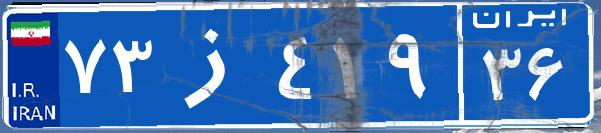1: (330, 28, 385, 110)
3: (475, 38, 525, 113), (110, 28, 158, 105)
4: (273, 28, 330, 110)
6: (525, 38, 570, 115)
7: (57, 26, 110, 107)
9: (385, 28, 445, 110)
ز: (158, 15, 273, 115)
